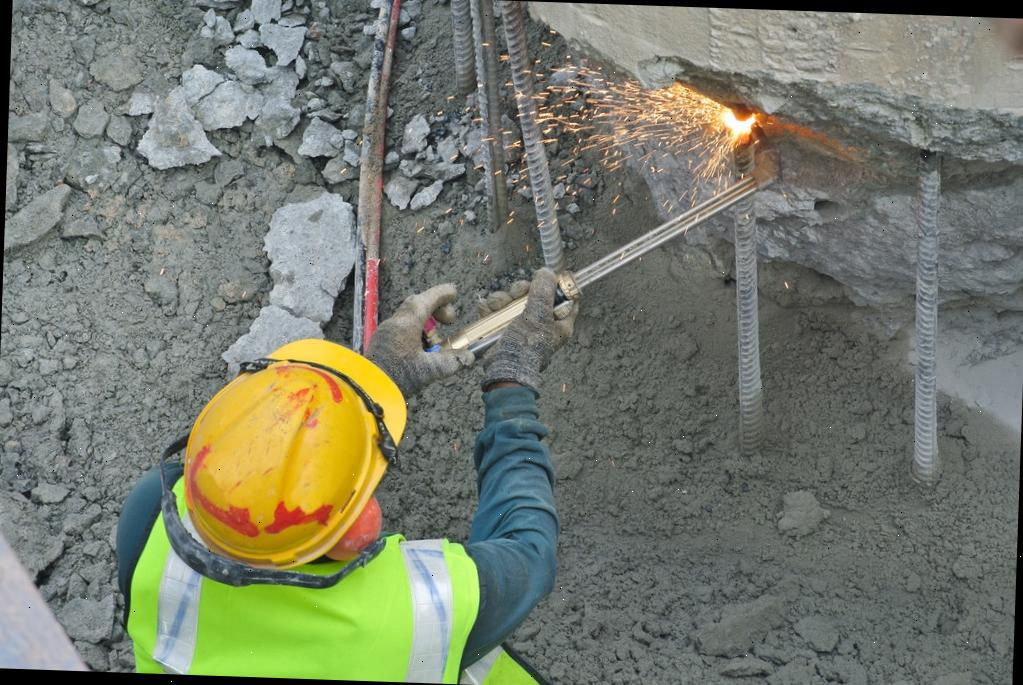helmet: (168, 330, 411, 586)
wear: (115, 554, 492, 684)
